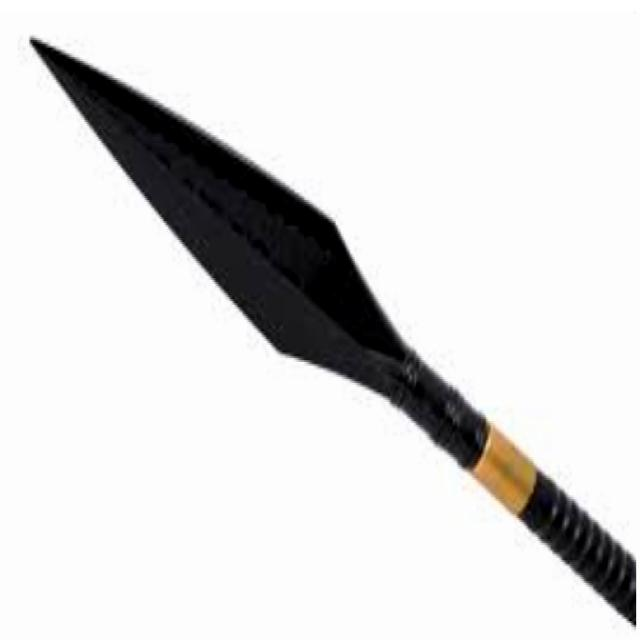spear: (14, 11, 637, 622)
